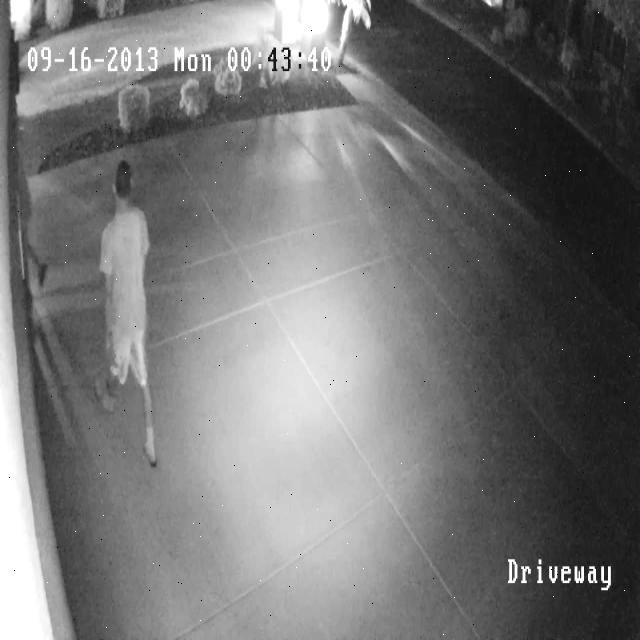standing: (94, 161, 156, 466)
